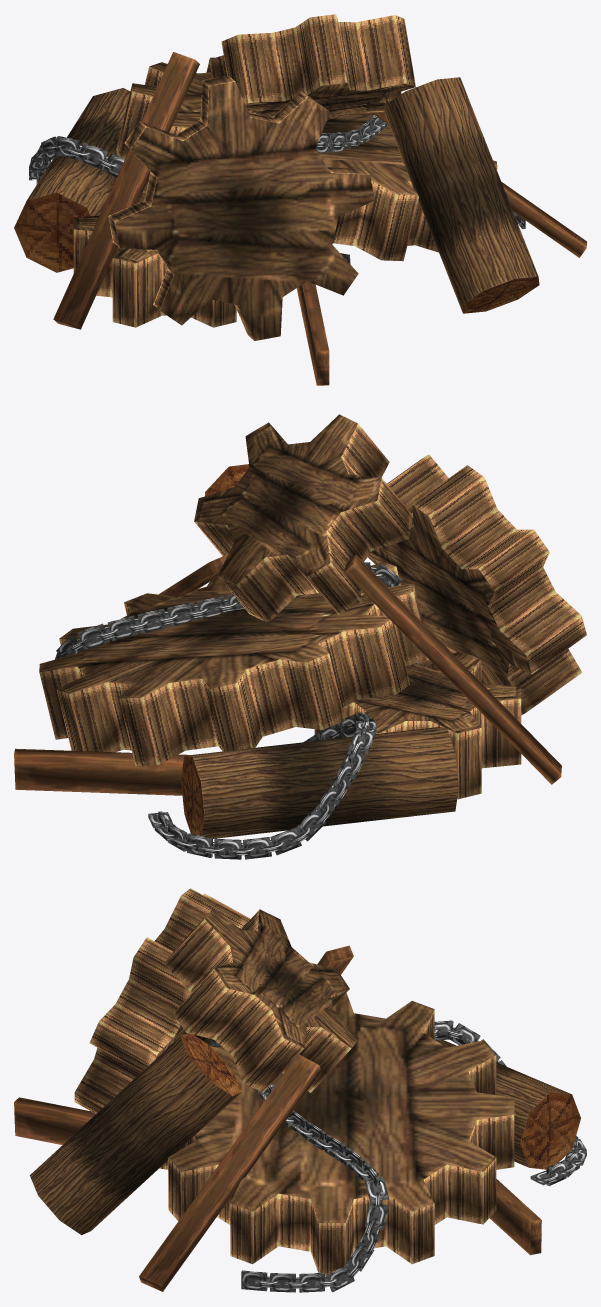
File: INST_SWORDLIGHT_PARTSPILE.fbx
3 views of the same model, one above another, from view 1: azimuth 30°, elevation 25°; view 2: azimuth 150°, elevation 25°; view 3: azimuth 270°, elevation 25° (orthographic). The views are drawn at different scales.
Parts seen in each view (by area): view 1: INST_SWORDLIGHT_PARTSPILE; view 2: INST_SWORDLIGHT_PARTSPILE; view 3: INST_SWORDLIGHT_PARTSPILE.
Boxes of the visible parts, x1,y1,x2,y2 form: INST_SWORDLIGHT_PARTSPILE: (14,14,586,385); INST_SWORDLIGHT_PARTSPILE: (14,414,586,859); INST_SWORDLIGHT_PARTSPILE: (14,888,586,1292).
Bounding box in the file's own units: 31136 × 17814 × 33271.
6 materials, 6 textured.
